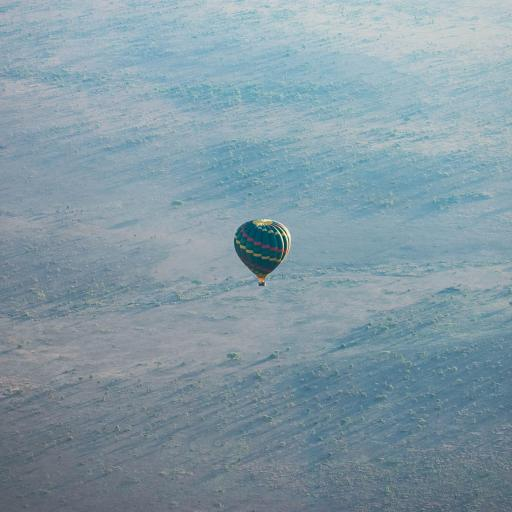hot air ballon: (233, 219, 292, 286)
